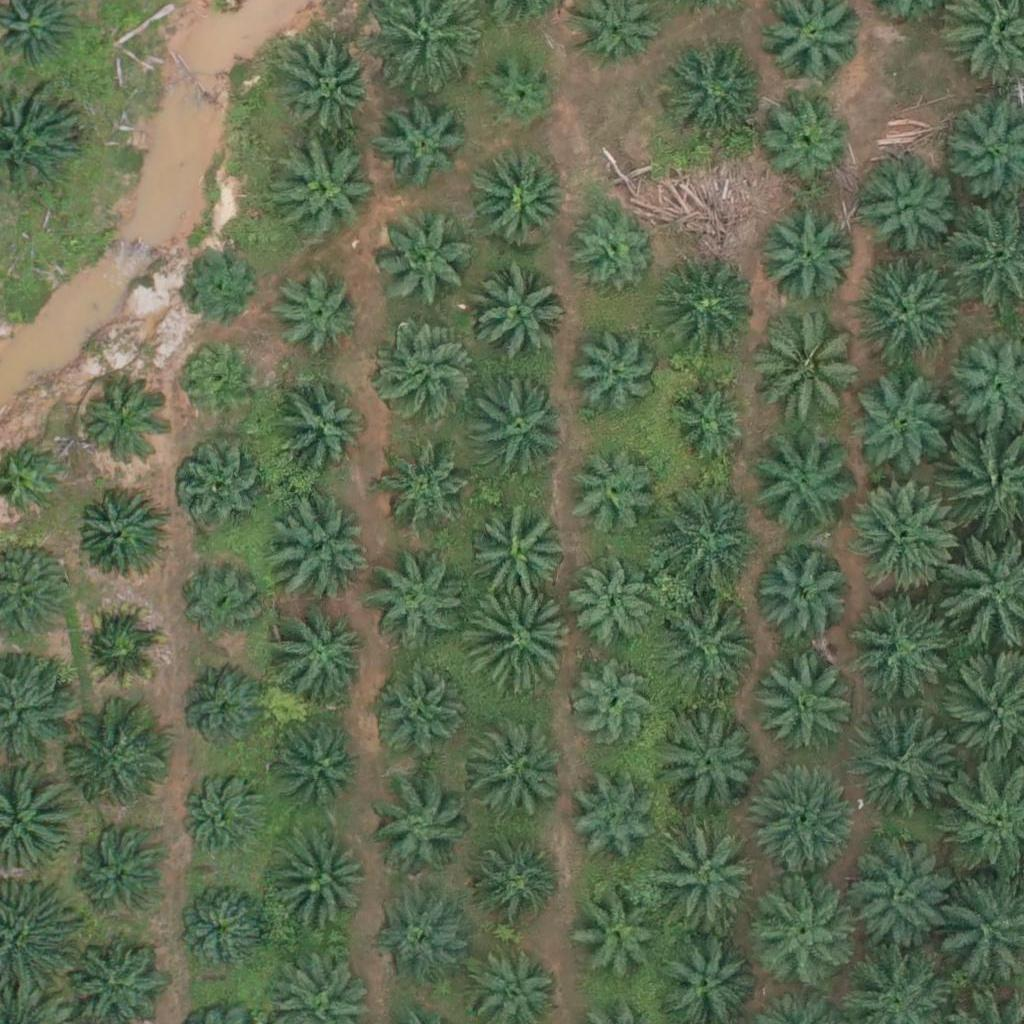Kelapa_Sawit: (848, 703, 961, 817), (841, 839, 954, 952), (848, 593, 961, 706), (745, 430, 858, 543), (747, 765, 860, 878), (653, 827, 766, 940), (651, 585, 764, 698), (652, 485, 765, 598), (846, 251, 959, 364), (462, 584, 574, 698), (847, 477, 959, 590), (61, 704, 173, 817), (755, 314, 867, 427), (750, 548, 850, 649), (758, 652, 858, 753), (754, 889, 854, 990), (661, 716, 761, 817), (473, 508, 573, 609), (365, 556, 465, 657), (367, 666, 467, 767), (272, 602, 372, 703), (856, 158, 956, 259), (849, 372, 949, 473), (761, 206, 861, 307), (660, 41, 760, 142), (373, 322, 473, 423), (265, 263, 365, 364), (461, 719, 561, 819), (370, 776, 470, 876), (370, 900, 470, 1000), (271, 383, 371, 483), (274, 499, 374, 599), (275, 836, 375, 936), (173, 881, 273, 981), (655, 260, 755, 360), (469, 149, 569, 249), (469, 262, 569, 362), (468, 377, 568, 477), (377, 207, 477, 307), (281, 37, 381, 137), (272, 143, 372, 243), (564, 452, 652, 540), (568, 564, 656, 652), (573, 890, 661, 978), (466, 835, 554, 923), (387, 453, 475, 541), (274, 719, 362, 807), (175, 340, 263, 428), (179, 558, 267, 646), (180, 670, 268, 758), (180, 775, 268, 863), (664, 373, 752, 461), (570, 661, 657, 749), (571, 780, 658, 868), (177, 441, 264, 529), (79, 382, 166, 470), (75, 487, 162, 575), (75, 605, 162, 693), (72, 826, 159, 914), (764, 93, 851, 181), (571, 327, 658, 415), (568, 204, 655, 292), (378, 104, 465, 192), (177, 241, 264, 329), (482, 53, 557, 129)
